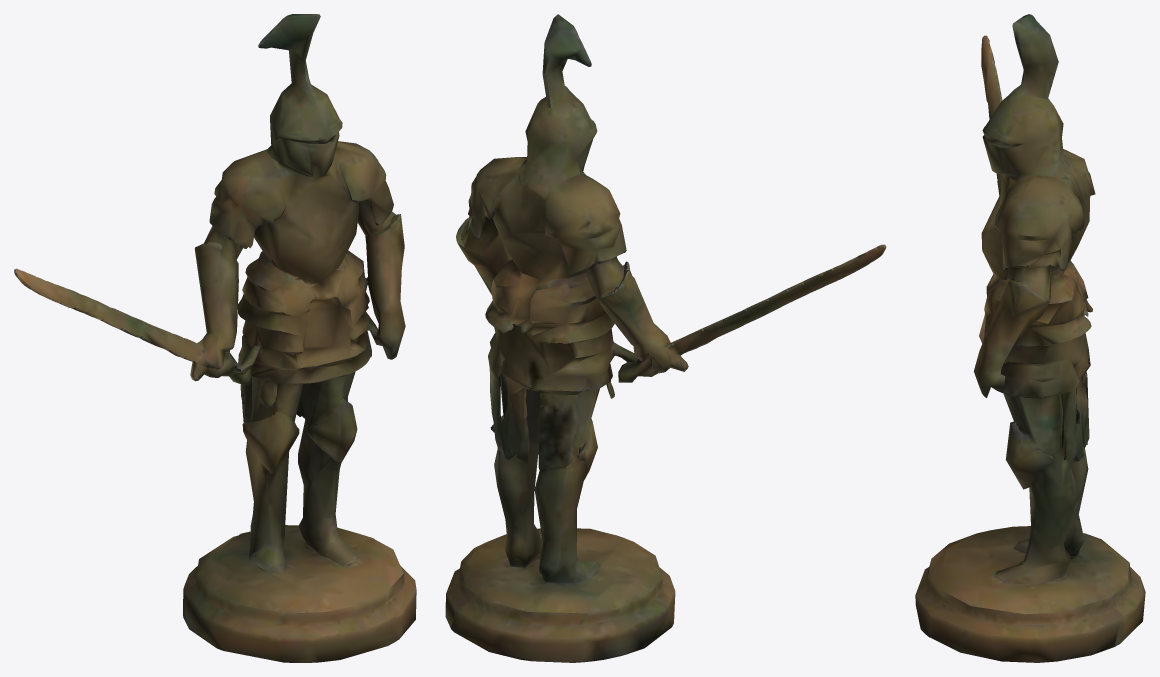
File: simple-bronze-suit-of-armour-v001.glb
The picture shows the model from 3 angles, left to right: view 1: azimuth 30°, elevation 25°; view 2: azimuth 150°, elevation 25°; view 3: azimuth 270°, elevation 25°; orthographic projection.
Visible parts, largest first — view 1: simple-bronze-suit-of-armour; view 2: simple-bronze-suit-of-armour; view 3: simple-bronze-suit-of-armour.
Boxes of the visible parts, x1,y1,x2,y2 form: simple-bronze-suit-of-armour: [14, 14, 416, 662]; simple-bronze-suit-of-armour: [445, 14, 886, 662]; simple-bronze-suit-of-armour: [915, 14, 1145, 662].
Size of the model in its own units: 1.3 by 1.82 by 0.6369.
Materials: 1 (1 with a texture image).
